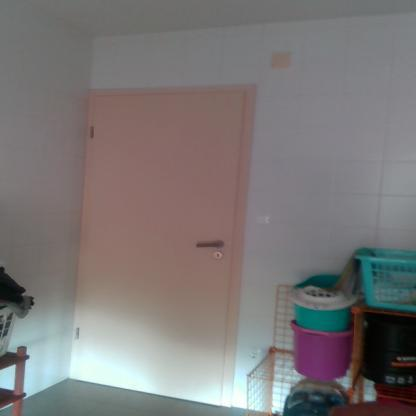door: (92, 96, 228, 406)
hinged: (73, 323, 80, 342), (88, 125, 96, 140)
lever: (190, 237, 226, 252)
